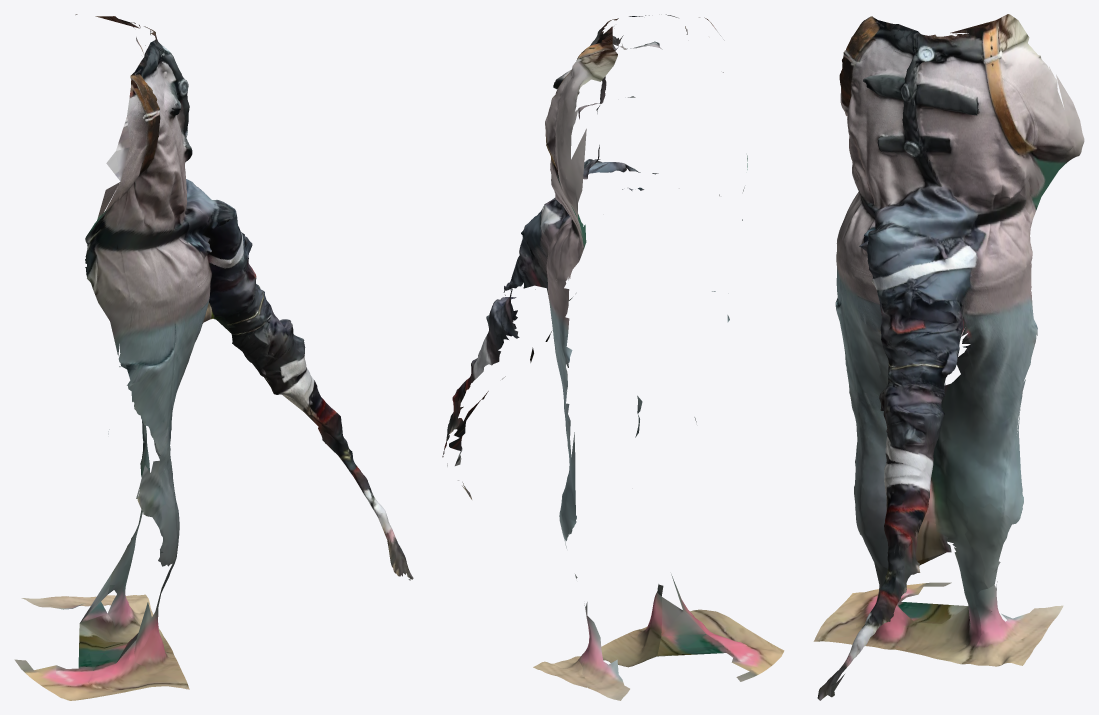
Rendered from Kai_Solomon.glb.
3 renders of one model, left to right at view 1: azimuth 30°, elevation 25°; view 2: azimuth 150°, elevation 25°; view 3: azimuth 270°, elevation 25°, orthographic. The views are drawn at different scales.
Visible parts, largest first — view 1: mesh.002; view 2: mesh.002; view 3: mesh.002.
Boxes of the visible parts, <box> form: mesh.002: <box>14,14,413,700</box>; mesh.002: <box>442,14,784,700</box>; mesh.002: <box>813,14,1084,700</box>.
Bounding box in the file's own units: 3.37 × 5.84 × 2.3.
Materials: 1 (1 with a texture image).
